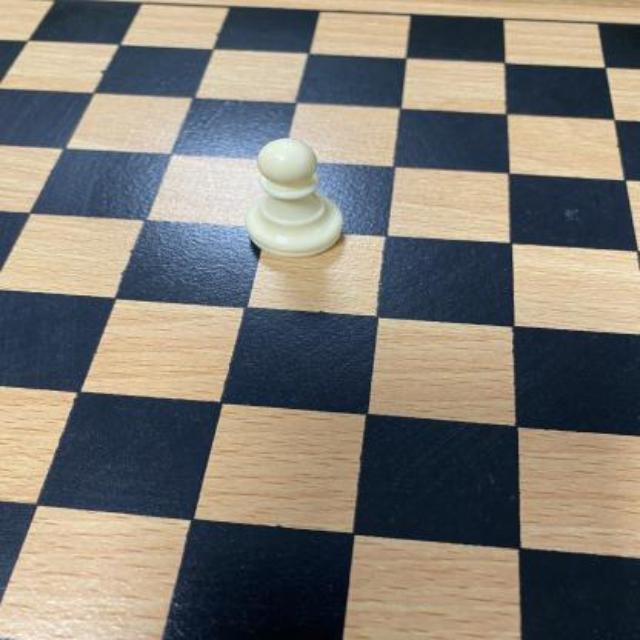white-pawn: (242, 138, 343, 258)
